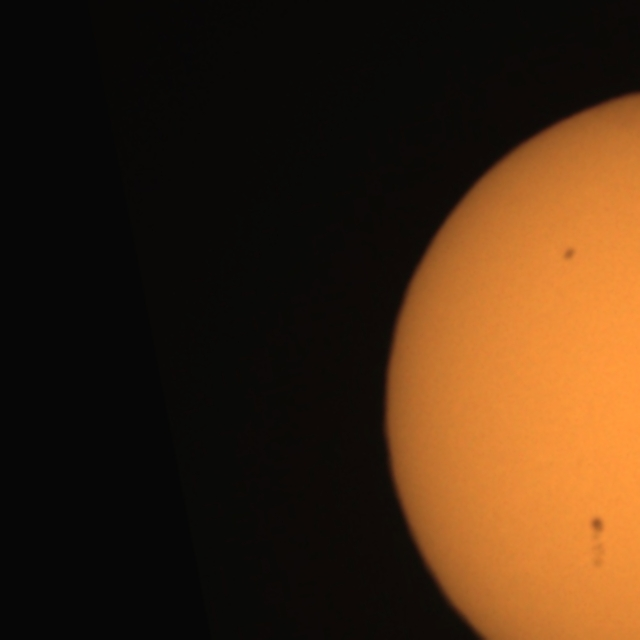sunspot: (588, 514, 608, 538), (561, 245, 578, 264)
